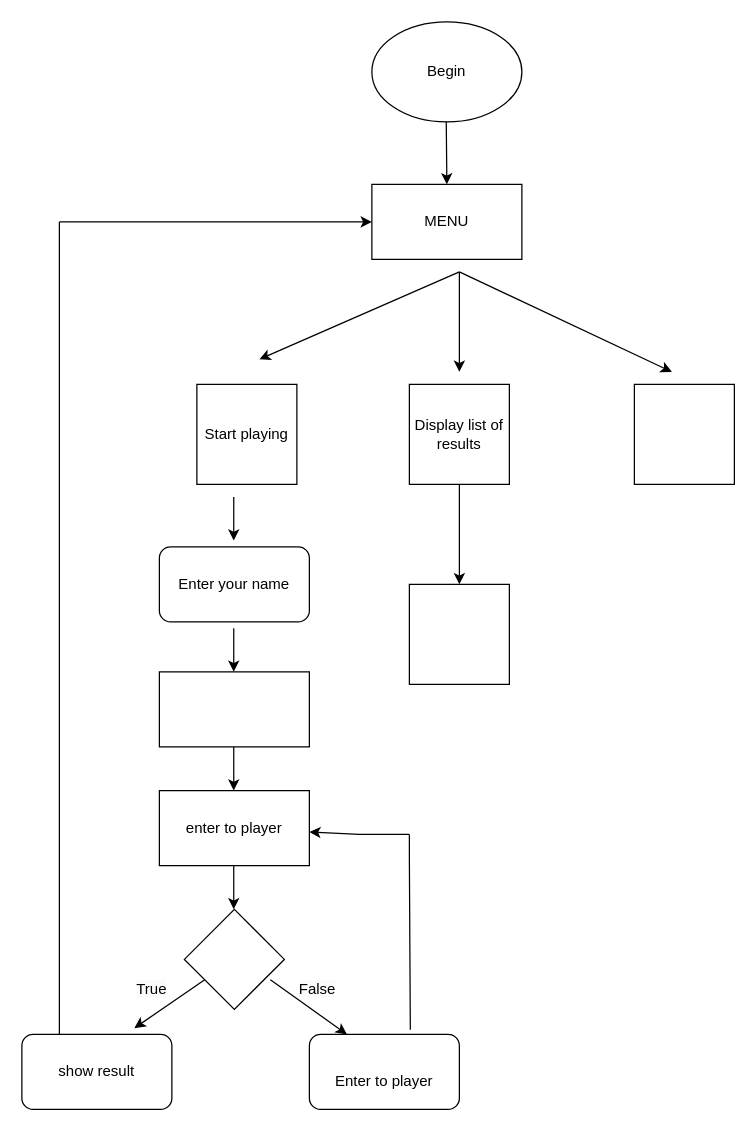
The diagram is 756 pixels wide and 1131 high, and some of its shapes have lost their labels. The shapes that lost their labels are listed below. From the top down, each one's box as (x1, y1, x2, y2) in pixels, then its label:
(633, 383, 734, 484): End the game
(408, 583, 509, 684): Print result player
(158, 671, 309, 747): show randomnumber
(183, 908, 284, 1009): Test number
